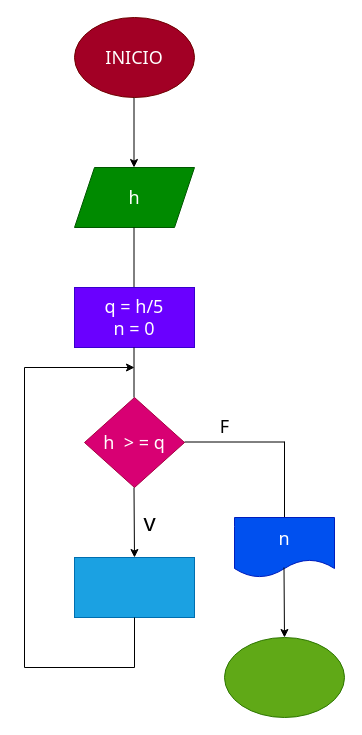
This 362x735 diagram has some shape labels left out. Each missing label, with the centre of its shape:
FIN: the point at 284,677
h = 0.9h n = n + 1: the point at 134,587
